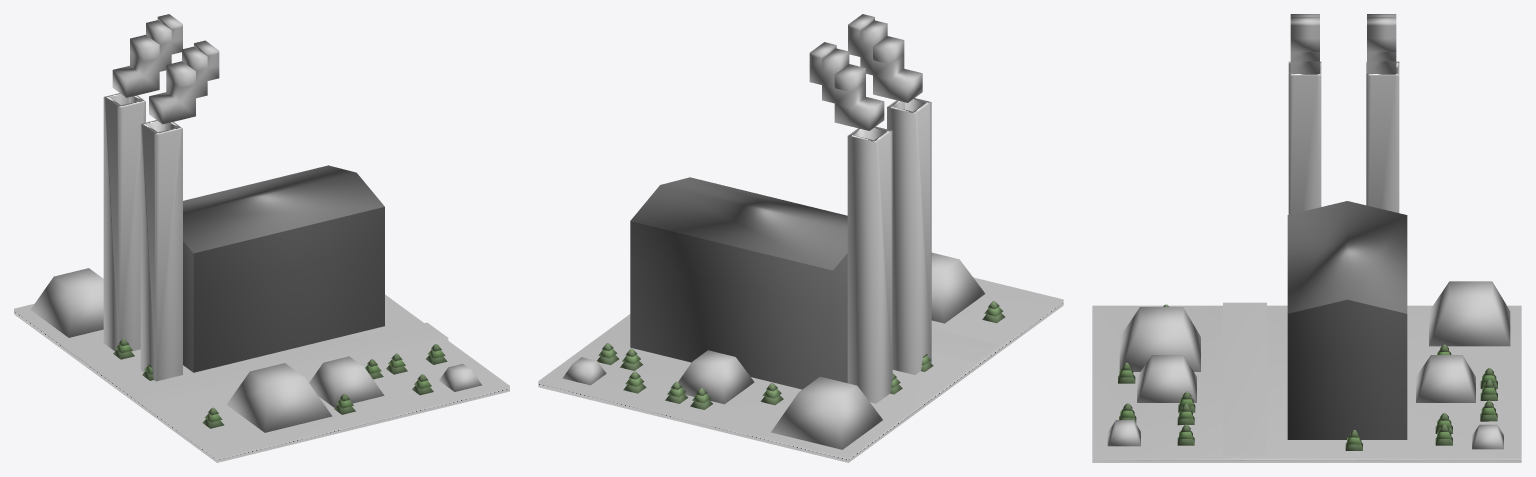
The model's file is Factory.fbx.
3 renders of one model, left to right at view 1: azimuth 30°, elevation 25°; view 2: azimuth 150°, elevation 25°; view 3: azimuth 270°, elevation 25°, orthographic. The views are drawn at different scales.
Parts seen in each view (by area): view 1: Cube_001, Cube_003, Rock_001, Rock_005, Cube_002, Cube_004, Rock_000, Rock_002; view 2: Cube_001, Cube_003, Rock_005, Cube_004, Cube_002, Rock_004, Rock_001, Rock_006; view 3: Cube_001, Cube_003, Rock_005, Rock_001, Rock_004, Rock_000, Cube_004, Cube_002, Rock_002, Rock_006.
Boxes of the visible parts, x1=… form: Cube_001: x1=103, y1=93, x2=384, y2=381; Cube_003: x1=14, y1=294, x2=509, y2=462; Rock_001: x1=226, y1=363, x2=332, y2=432; Rock_005: x1=30, y1=268, x2=103, y2=337; Cube_002: x1=149, y1=40, x2=219, y2=124; Cube_004: x1=112, y1=14, x2=182, y2=97; Rock_000: x1=309, y1=356, x2=384, y2=407; Rock_002: x1=439, y1=364, x2=481, y2=391; Cube_001: x1=630, y1=98, x2=931, y2=403; Cube_003: x1=538, y1=277, x2=1063, y2=462; Rock_005: x1=771, y1=376, x2=882, y2=449; Cube_004: x1=809, y1=42, x2=884, y2=130; Cube_002: x1=848, y1=14, x2=922, y2=102; Rock_004: x1=678, y1=350, x2=754, y2=404; Rock_001: x1=931, y1=252, x2=985, y2=323; Rock_006: x1=562, y1=357, x2=606, y2=385; Cube_001: x1=1287, y1=61, x2=1407, y2=439; Cube_003: x1=1092, y1=302, x2=1521, y2=462; Rock_005: x1=1429, y1=281, x2=1510, y2=346; Rock_001: x1=1119, y1=307, x2=1200, y2=371; Rock_004: x1=1416, y1=355, x2=1475, y2=402; Rock_000: x1=1137, y1=355, x2=1196, y2=402; Cube_004: x1=1367, y1=14, x2=1396, y2=73; Cube_002: x1=1290, y1=14, x2=1319, y2=73; Rock_002: x1=1107, y1=420, x2=1140, y2=446; Rock_006: x1=1472, y1=424, x2=1503, y2=449.
Bounding box in the file's own units: 9.25 × 9.67 × 11.11.
